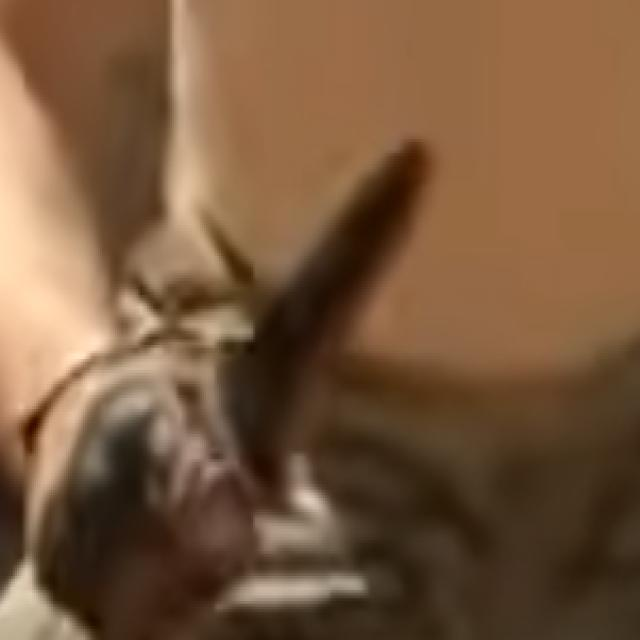Fknife: (202, 118, 440, 513)
